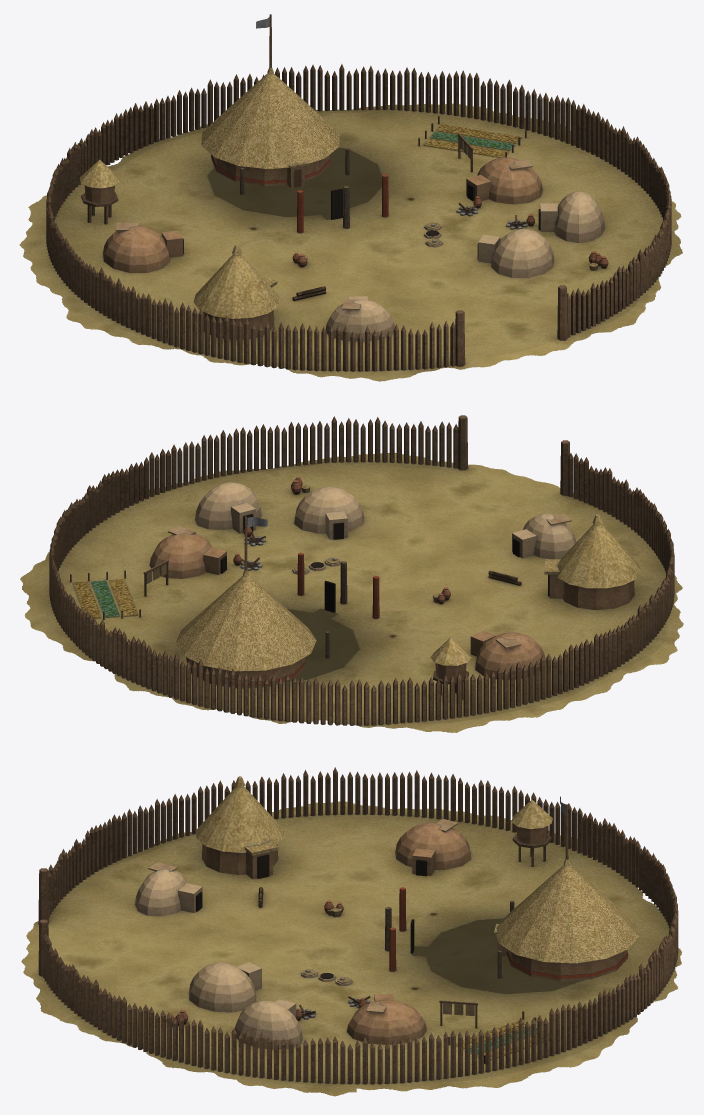
File: stone-town-small-a-eastafrica.glb
3 renders of one model, top to bottom at view 1: azimuth 30°, elevation 25°; view 2: azimuth 150°, elevation 25°; view 3: azimuth 270°, elevation 25°, orthographic. The views are drawn at different scales.
Visible parts, largest first — view 1: LOD0; view 2: LOD0; view 3: LOD0.
Boxes of the visible parts, x1,y1,x2,y2 form: LOD0: (19,14,682,381); LOD0: (20,415,683,732); LOD0: (21,767,681,1096).
Size of what is drawn, in the model's own units: 4 by 0.97 by 3.82.
3 materials, 3 textured.
